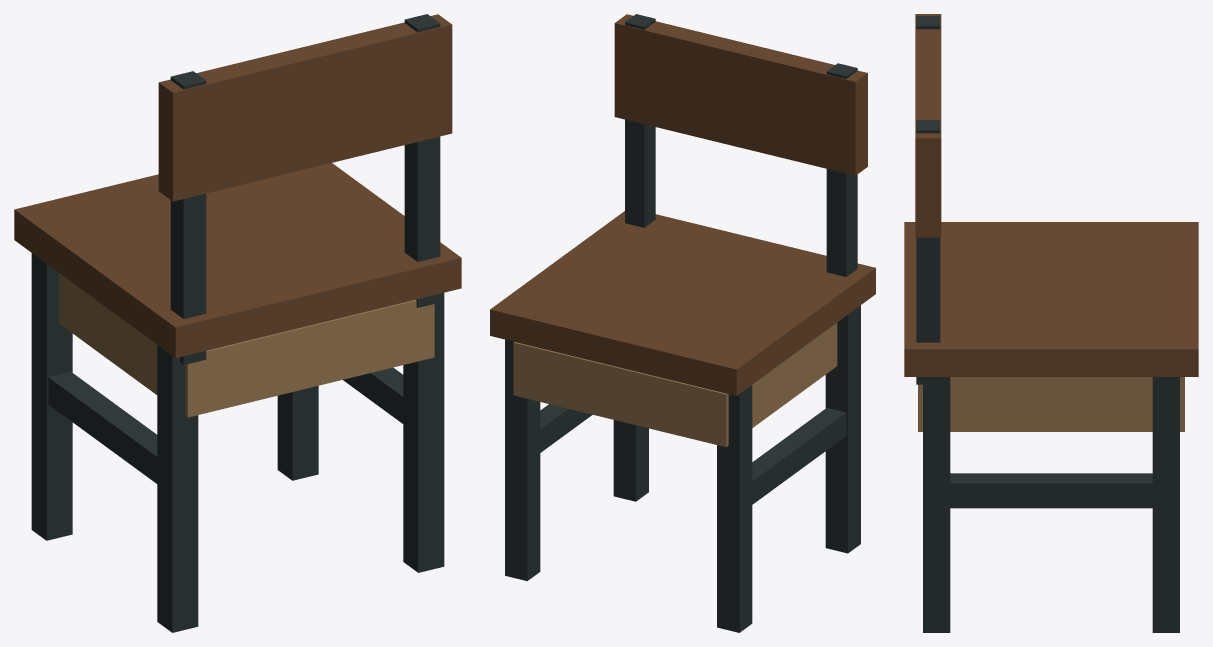
File: student_chair.glb
3 views of the same model, side by side, from view 1: azimuth 30°, elevation 25°; view 2: azimuth 150°, elevation 25°; view 3: azimuth 270°, elevation 25° (orthographic). The views are drawn at different scales.
Parts seen in each view (by area): view 1: student_chair; view 2: student_chair; view 3: student_chair.
Boxes of the visible parts, box(x1,y1,x2,y2) form: student_chair: box(14, 14, 461, 632); student_chair: box(490, 14, 875, 632); student_chair: box(904, 14, 1198, 632).
Bounding box in the file's own units: 0.44 × 0.805 × 0.43.
